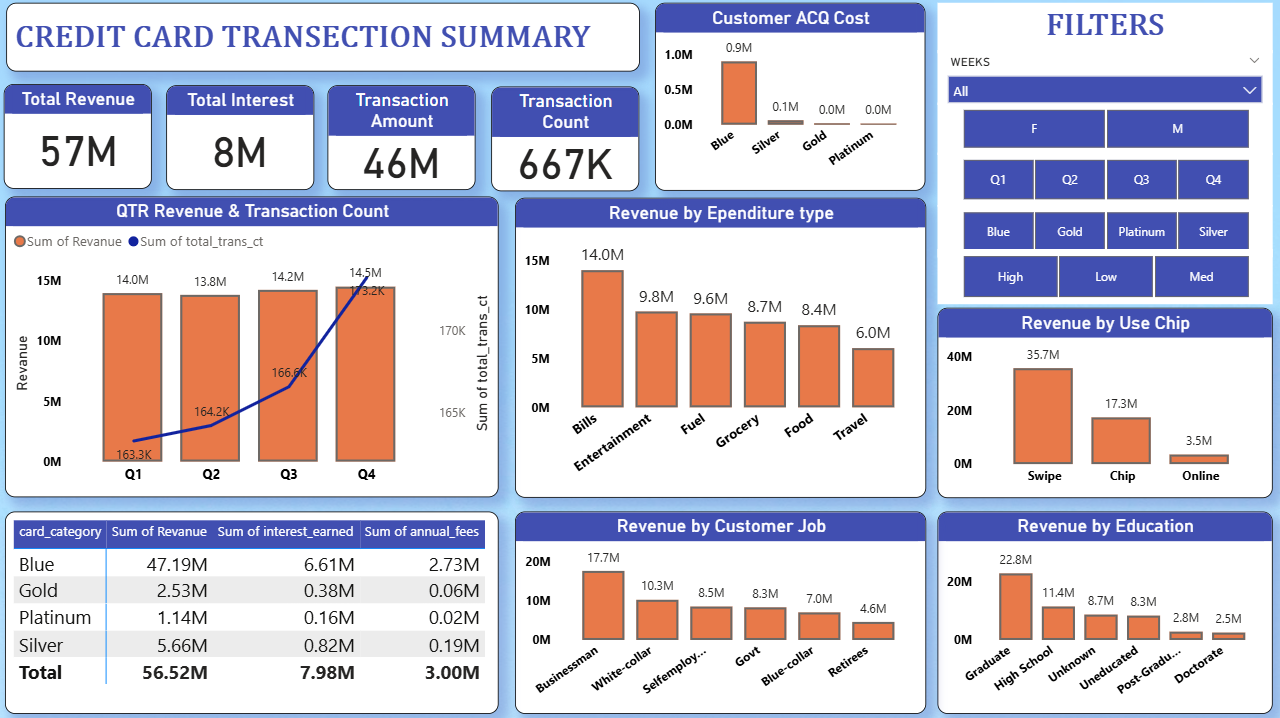

The page's visual inventory and layout, read from the dashboard file:
{"tool":"powerbi","page":{"name":"CC Transaction Rep.","canvas":[1280,720],"ordinal":0},"visuals":[{"type":"textbox","box":[6.1,3.7,633.4,68.5],"z":0},{"type":"card","title":"Total Revenue","fields":{"Values":["Sum(public cc_detail.Revanue)"]},"box":[4.3,84.6,147.7,104.7],"z":1000},{"type":"card","title":"Total Interest","fields":{"Values":["Sum(public cc_detail.interest_earned)"]},"box":[166.3,86,147.7,104.7],"z":2000},{"type":"card","title":"Transaction Amount","fields":{"Values":["Sum(public cc_detail.total_trans_amt)"]},"box":[326.9,86,147.7,104.7],"z":3000},{"type":"card","title":"Transaction Count","fields":{"Values":["Sum(public cc_detail.total_trans_ct)"]},"box":[491.8,87.5,147.7,104.7],"z":4000},{"type":"columnChart","title":"Revenue by Ependiture type","fields":{"Y":["Sum(public cc_detail.Revanue)"],"Category":["public cc_detail.exp_type"]},"box":[514.5,199,411.4,299.7],"z":5000},{"type":"columnChart","title":"Revenue by Education","fields":{"Y":["Sum(public cc_detail.Revanue)"],"Category":["public cust_detail.education_level"]},"box":[938,512.1,334.9,202.7],"z":6000},{"type":"columnChart","title":"Revenue by Customer Job","fields":{"Y":["Sum(public cc_detail.Revanue)"],"Category":["public cust_detail.customer_job"]},"box":[514.5,512.1,411.4,202.7],"z":7000},{"type":"columnChart","title":"Revenue by Use Chip","fields":{"Y":["Sum(public cc_detail.Revanue)"],"Category":["public cc_detail.use_chip"]},"box":[938,308.2,334.9,190.5],"z":8000},{"type":"columnChart","title":"Customer ACQ Cost","fields":{"Category":["public cc_detail.card_category"],"Y":["Sum(public cc_detail.customer_acq_cost)"]},"box":[655.3,3.6,270.6,188.1],"z":9000},{"type":"lineStackedColumnComboChart","title":"QTR Revenue & Transaction Count","fields":{"Y":["Sum(public cc_detail.Revanue)"],"Category":["public cc_detail.qtr"],"Y2":["Sum(public cc_detail.total_trans_ct)"]},"box":[4.9,197.8,493.9,300.9],"z":10000},{"type":"pivotTable","fields":{"Rows":["public cc_detail.card_category"],"Values":["Sum(public cc_detail.Revanue)","Sum(public cc_detail.interest_earned)","Sum(public cc_detail.annual_fees)"]},"box":[4.9,512.1,493.9,202.7],"z":11000},{"type":"slicer","fields":{"Values":["public cc_detail.card_category"]},"box":[937.6,206.2,334.9,52],"z":12000},{"type":"slicer","fields":{"Values":["public cust_detail.gender"]},"box":[937.6,103.7,334.9,52],"z":13000},{"type":"slicer","fields":{"Values":["public cc_detail.week_num"]},"box":[937.4,51.7,334.9,54.6],"z":14000},{"type":"slicer","fields":{"Values":["public cust_detail.IncomeGroup"]},"box":[937.6,249.5,334.9,54.8],"z":15000},{"type":"slicer","fields":{"Values":["public cc_detail.qtr"]},"box":[937.6,154.2,334.9,53.4],"z":16000},{"type":"textbox","box":[937.4,3.8,335.1,50.2],"z":17000}]}

Visuals, with their boxes in screenshot pixels (x1, y1, x2, y2), scaled from the page's 1280x720 canvas onto the 1280x718 screenshot:
textbox: (6, 4, 640, 72)
"Total Revenue" card: (4, 84, 152, 189)
"Total Interest" card: (166, 86, 314, 190)
"Transaction Amount" card: (327, 86, 475, 190)
"Transaction Count" card: (492, 87, 640, 192)
"Revenue by Ependiture type" columnChart: (514, 198, 926, 497)
"Revenue by Education" columnChart: (938, 511, 1273, 713)
"Revenue by Customer Job" columnChart: (514, 511, 926, 713)
"Revenue by Use Chip" columnChart: (938, 307, 1273, 497)
"Customer ACQ Cost" columnChart: (655, 4, 926, 191)
"QTR Revenue & Transaction Count" lineStackedColumnComboChart: (5, 197, 499, 497)
pivotTable - public cc_detail.card_category x Sum(public cc_detail.Revanue): (5, 511, 499, 713)
slicer - public cc_detail.card_category: (938, 206, 1272, 257)
slicer - public cust_detail.gender: (938, 103, 1272, 155)
slicer - public cc_detail.week_num: (937, 52, 1272, 106)
slicer - public cust_detail.IncomeGroup: (938, 249, 1272, 303)
slicer - public cc_detail.qtr: (938, 154, 1272, 207)
textbox: (937, 4, 1272, 54)
